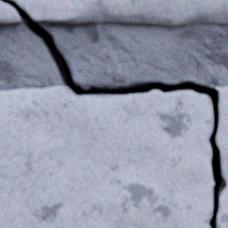broken_brick: (0, 87, 213, 227), (6, 0, 227, 25), (215, 87, 227, 227), (0, 1, 22, 23)
crack: (0, 0, 225, 227)
